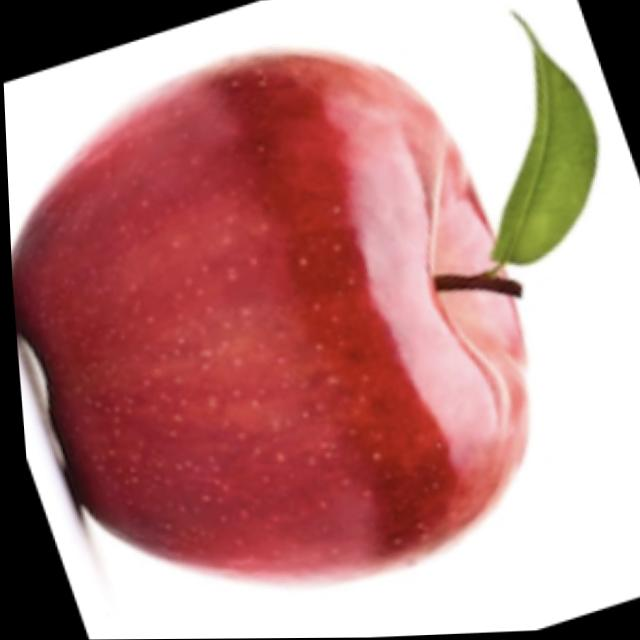organik: (1, 37, 548, 596)
